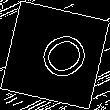O_SW: (22, 23, 88, 87)
